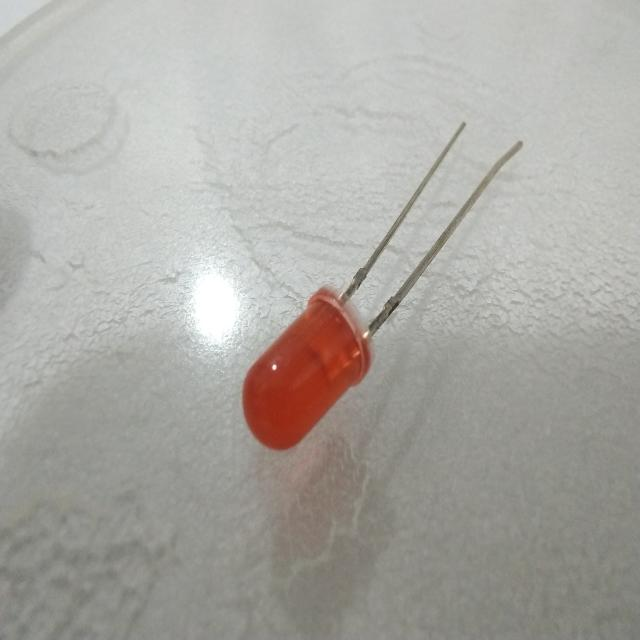red_led: (227, 270, 386, 464)
